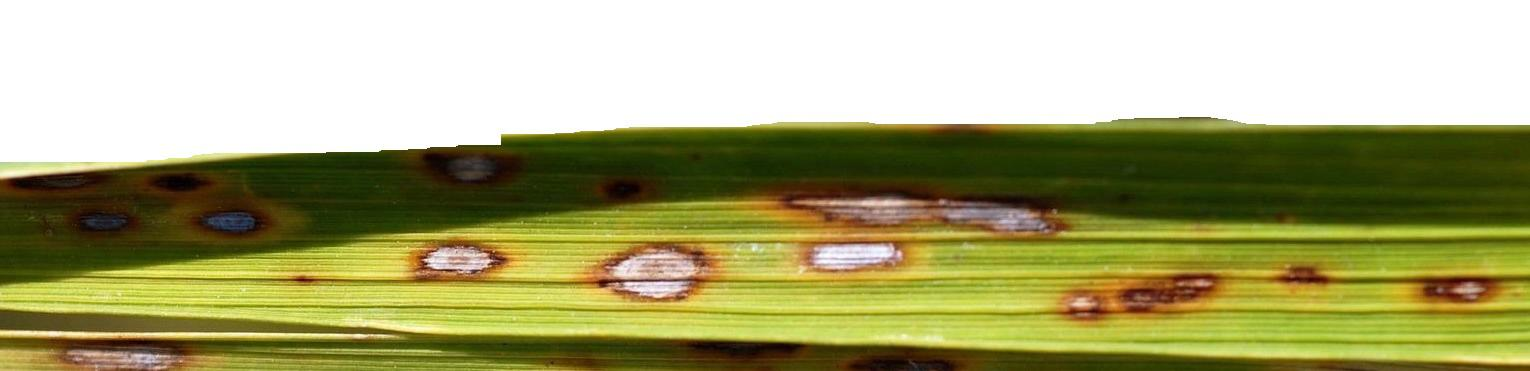brown_spot: (60, 149, 1495, 371)
